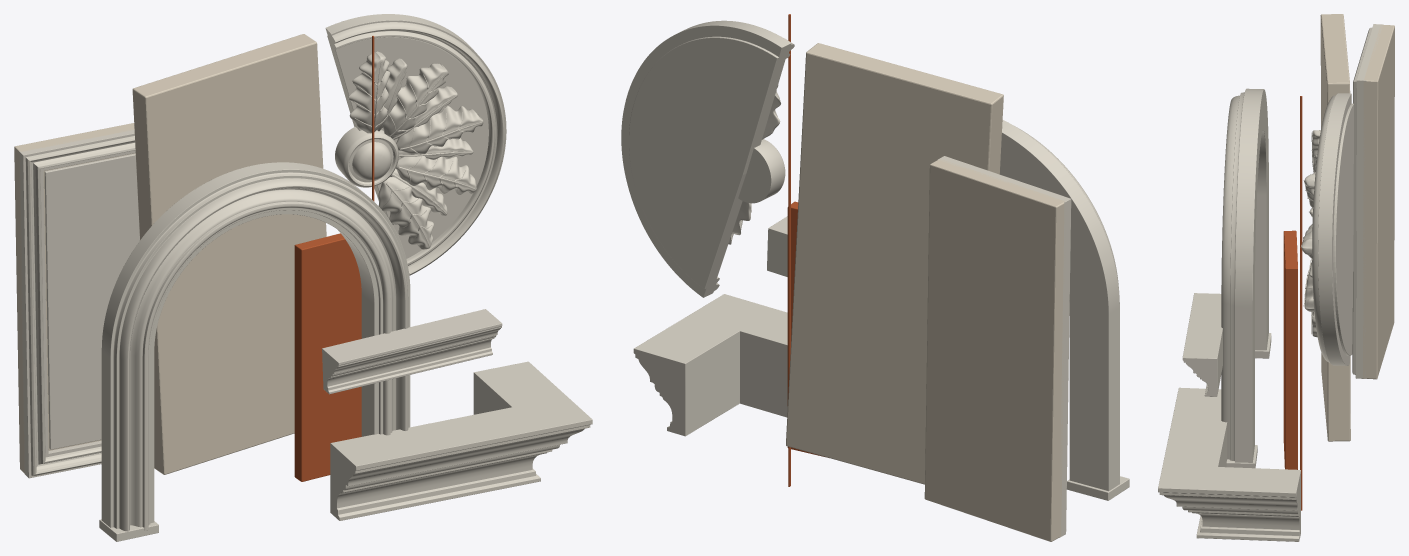
The model's file is arquitectura.glb.
The picture shows the model from 3 angles, left to right: view 1: azimuth 30°, elevation 25°; view 2: azimuth 150°, elevation 25°; view 3: azimuth 270°, elevation 25°; orthographic projection. The views are drawn at different scales.
Visible parts, largest first — view 1: Wall_Panel_Central_Geometry, Arch_Main_Geometry, Wall_Panel_Decorative_Geometry, Rosette_Fragment_Geometry, Cornice_Main_Geometry, Terracotta_Panel_Geometry, Cornice_Small_Geometry; view 2: Wall_Panel_Central_Geometry, Wall_Panel_Decorative_Geometry, Rosette_Fragment_Geometry, Arch_Main_Geometry, Cornice_Main_Geometry, Terracotta_Panel_Geometry, Cornice_Small_Geometry; view 3: Arch_Main_Geometry, Wall_Panel_Decorative_Geometry, Cornice_Main_Geometry, Rosette_Fragment_Geometry, Terracotta_Panel_Geometry, Wall_Panel_Central_Geometry, Cornice_Small_Geometry.
Part boxes in pixels (<box>): Wall_Panel_Central_Geometry: <box>132,34,326,474</box>; Arch_Main_Geometry: <box>99,162,410,541</box>; Wall_Panel_Decorative_Geometry: <box>14,123,139,478</box>; Rosette_Fragment_Geometry: <box>325,14,506,275</box>; Cornice_Main_Geometry: <box>330,361,592,520</box>; Terracotta_Panel_Geometry: <box>294,36,374,481</box>; Cornice_Small_Geometry: <box>322,309,502,394</box>; Wall_Panel_Central_Geometry: <box>786,43,1003,484</box>; Wall_Panel_Decorative_Geometry: <box>924,156,1071,541</box>; Rosette_Fragment_Geometry: <box>621,20,794,297</box>; Arch_Main_Geometry: <box>999,120,1129,500</box>; Cornice_Main_Geometry: <box>633,294,787,436</box>; Terracotta_Panel_Geometry: <box>787,14,825,486</box>; Cornice_Small_Geometry: <box>767,216,787,276</box>; Arch_Main_Geometry: <box>1221,88,1271,468</box>; Wall_Panel_Decorative_Geometry: <box>1352,24,1394,379</box>; Cornice_Main_Geometry: <box>1158,387,1300,541</box>; Rosette_Fragment_Geometry: <box>1300,93,1353,365</box>; Terracotta_Panel_Geometry: <box>1283,96,1302,510</box>; Wall_Panel_Central_Geometry: <box>1320,14,1350,441</box>; Cornice_Small_Geometry: <box>1182,293,1222,396</box>.
Bounding box in the file's own units: 3.81 × 3.57 × 1.85.
